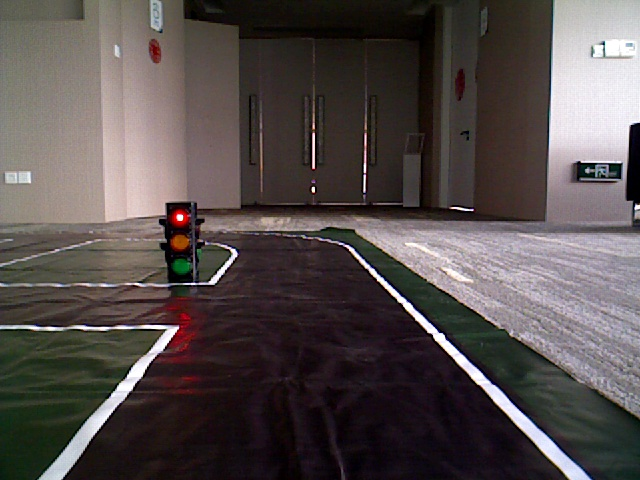red: (168, 206, 194, 277)
